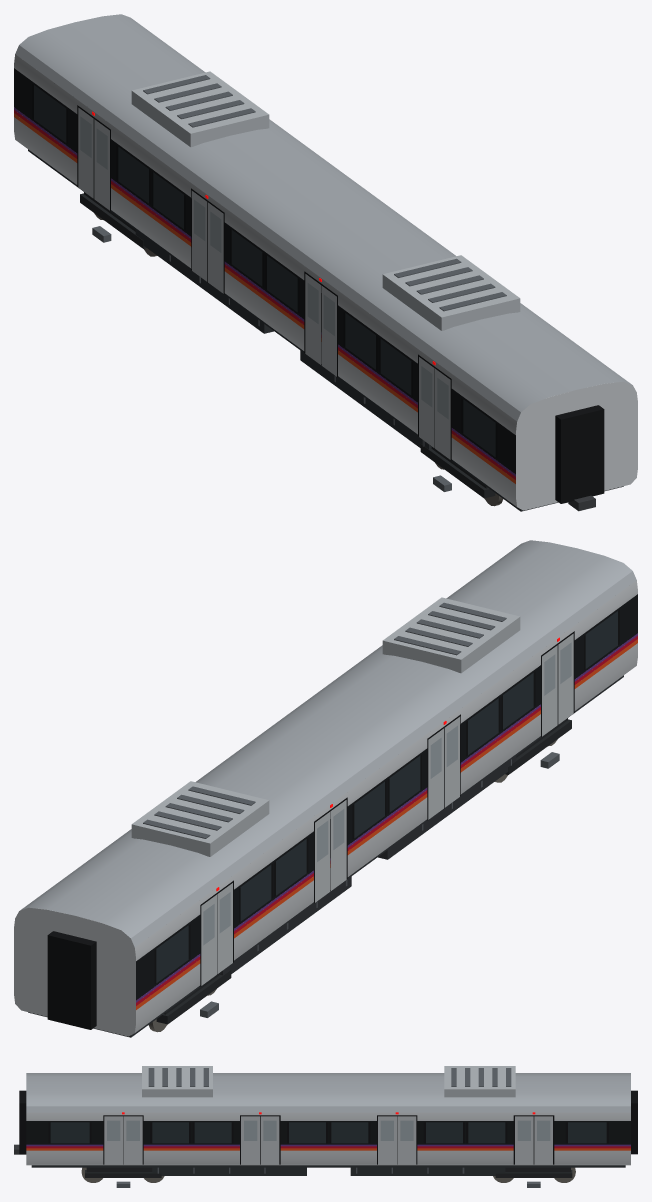
File: kaohsiung-mrt-middle.glb
3 views of the same model, one above another, from view 1: azimuth 30°, elevation 25°; view 2: azimuth 150°, elevation 25°; view 3: azimuth 270°, elevation 25° (orthographic). The views are drawn at different scales.
Visible parts, largest first — view 1: KaohsiungMRT_Middle; view 2: KaohsiungMRT_Middle; view 3: KaohsiungMRT_Middle.
Part boxes in pixels (box(x1,y1,x2,y2)): KaohsiungMRT_Middle: box(14, 14, 637, 511); KaohsiungMRT_Middle: box(14, 540, 637, 1037); KaohsiungMRT_Middle: box(14, 1066, 637, 1187).
Bounding box in the file's own units: 3.18 × 3.89 × 22.8.
